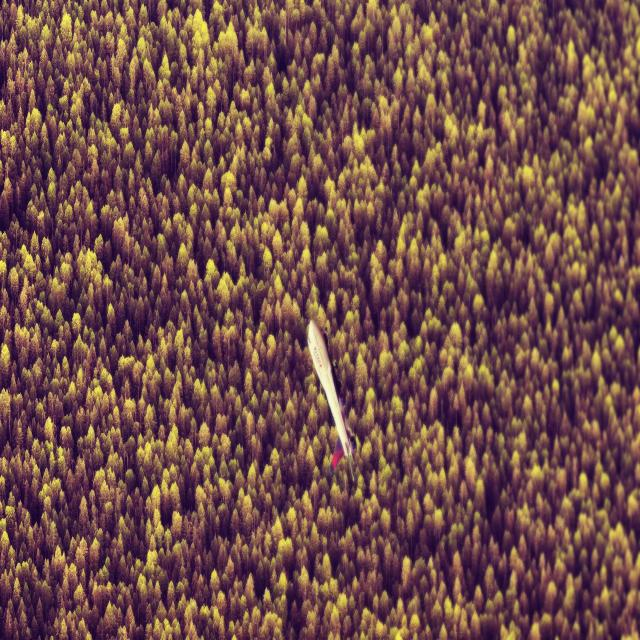airplane: (306, 318, 356, 481)
